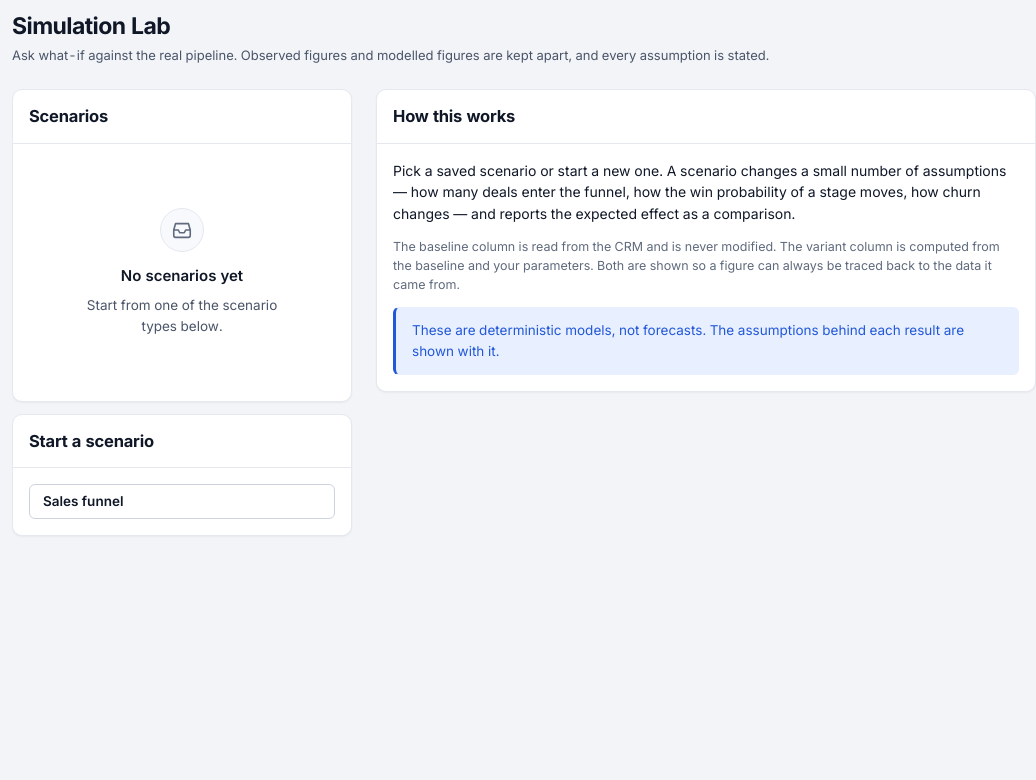
it: SimulationPage › hides the run control when the user may not compute
The image size is (1036, 780).
Click the button "Sales funnel" at x=83, y=501, box [29, 484, 335, 519]
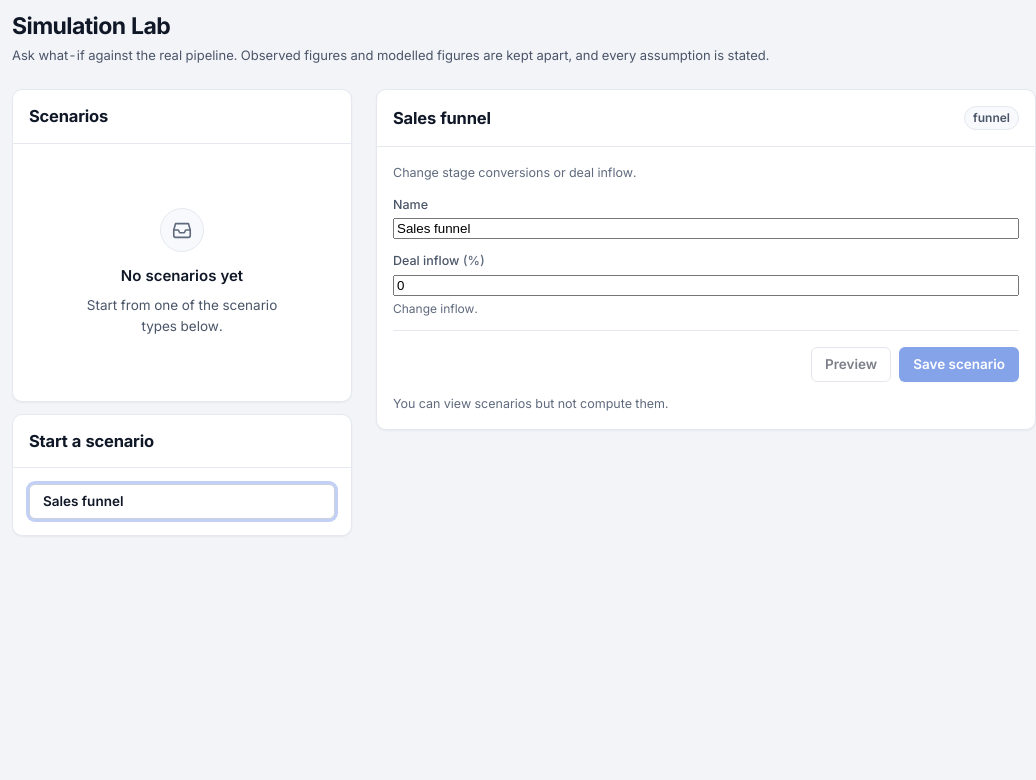
Check: the button "Preview" is disabled, box [811, 347, 891, 382]
